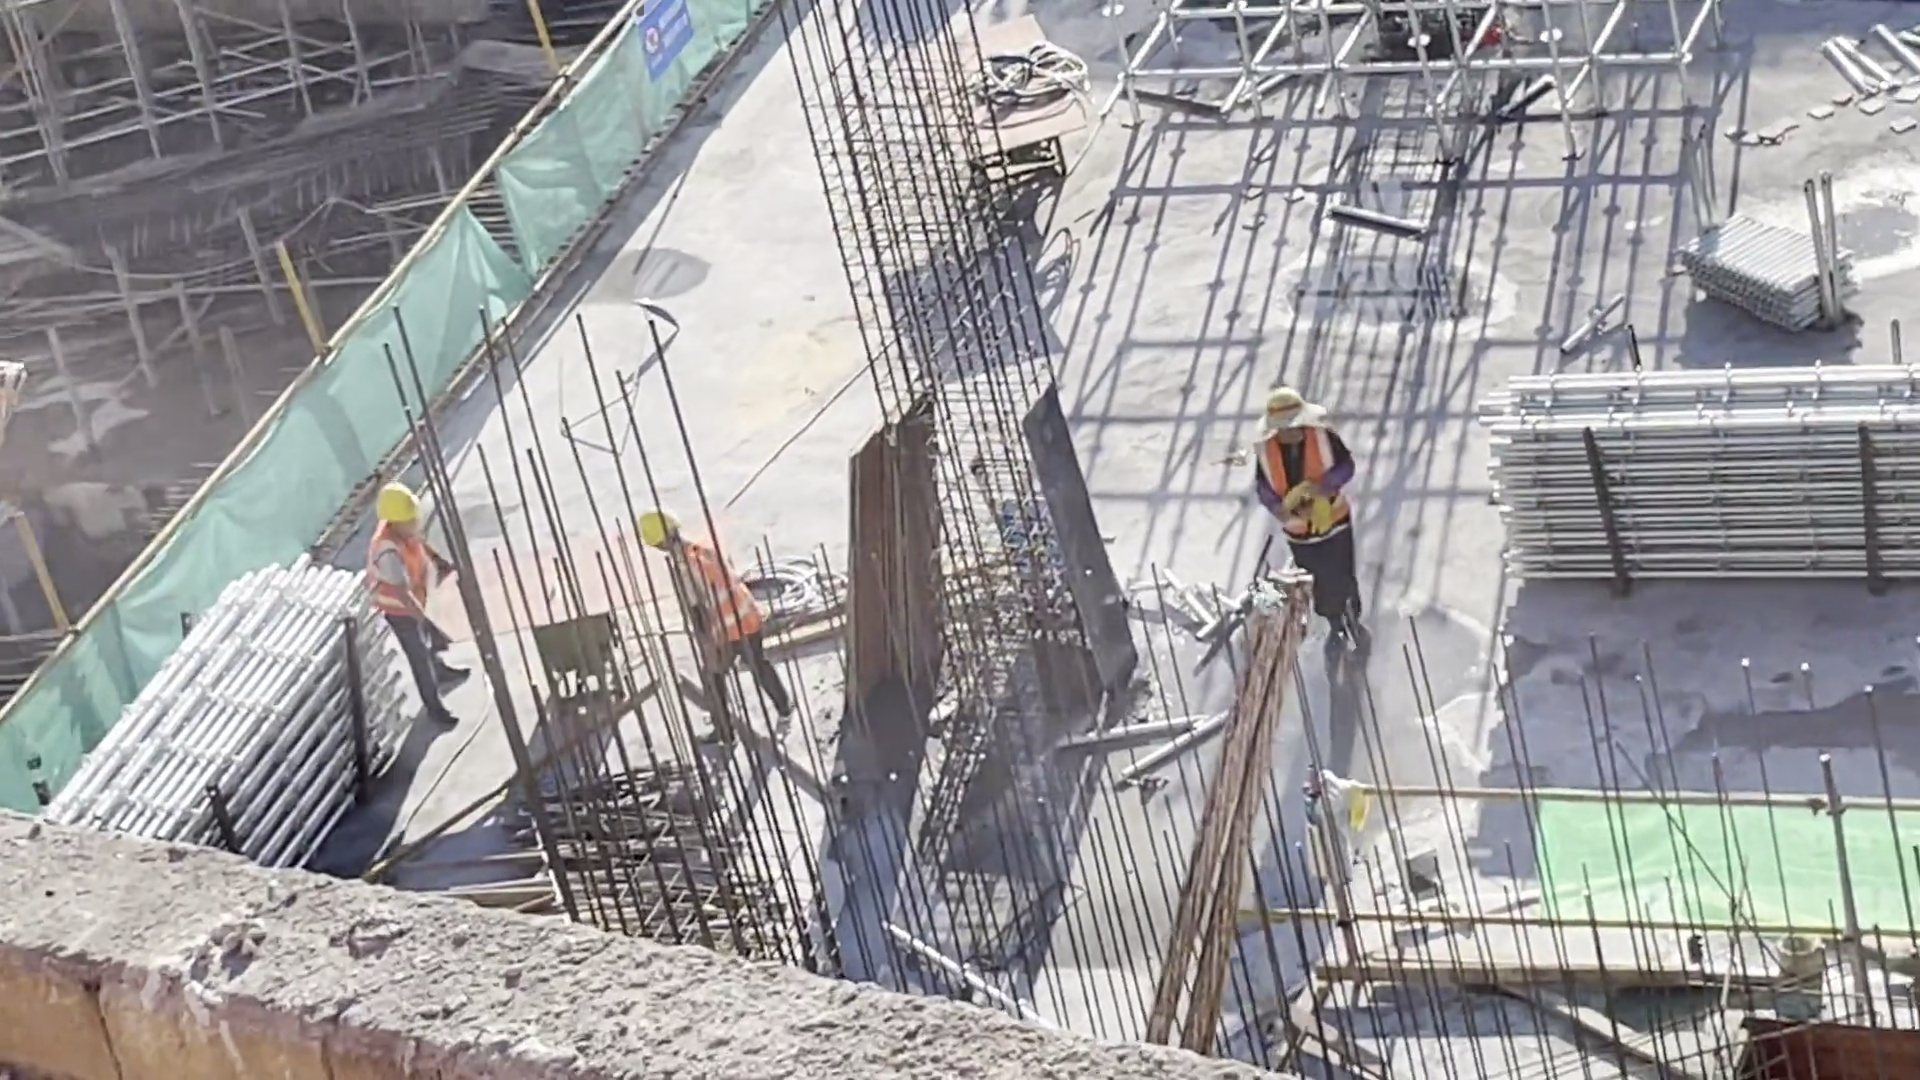helmet: (363, 477, 425, 524), (636, 511, 694, 553), (1258, 386, 1314, 425)
person: (624, 507, 802, 741), (1249, 383, 1377, 652), (365, 479, 482, 727)
vest: (665, 556, 775, 649), (1250, 433, 1354, 530), (363, 534, 432, 623)
